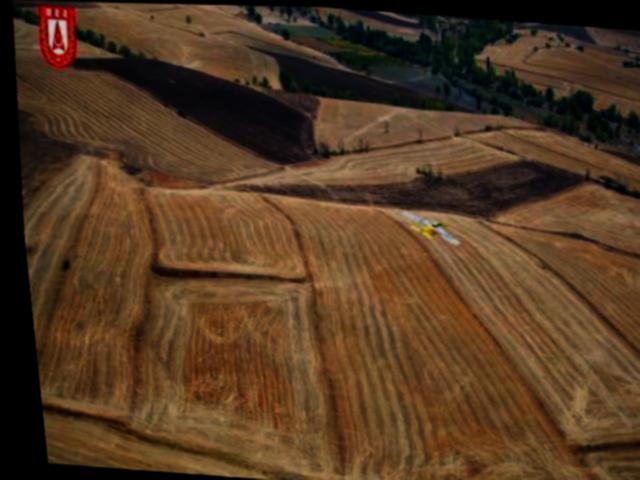uav: (390, 205, 462, 247)
